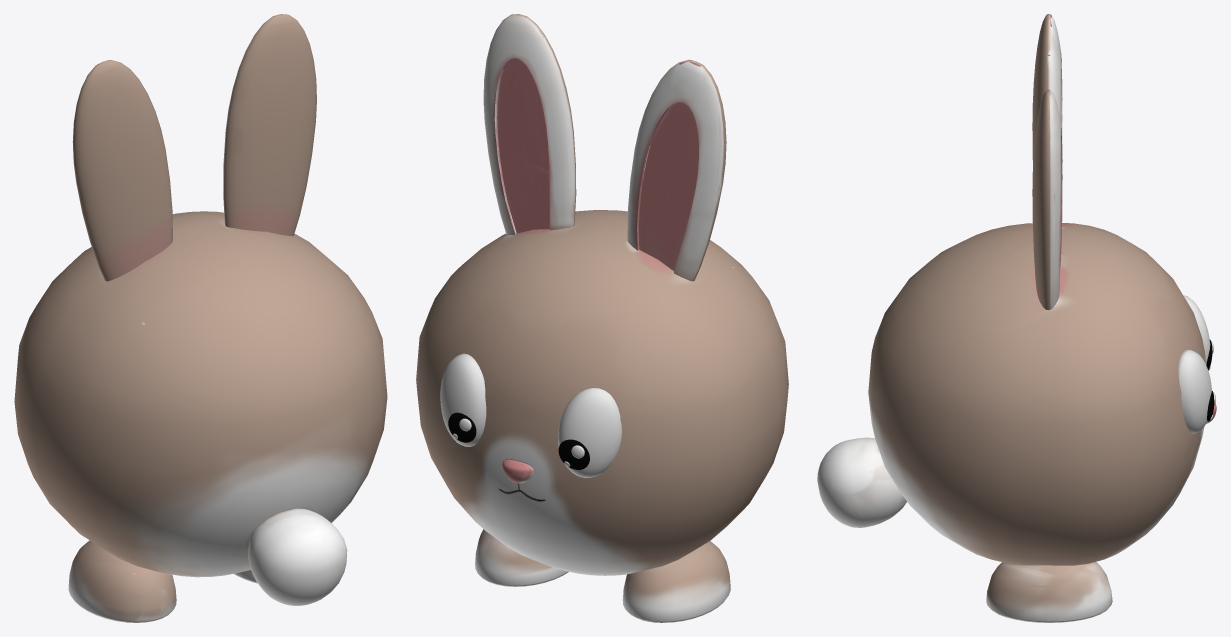
Rendered from newbunny.glb.
3 views of the same model, side by side, from view 1: azimuth 30°, elevation 25°; view 2: azimuth 150°, elevation 25°; view 3: azimuth 270°, elevation 25° (orthographic). The views are drawn at different scales.
Parts seen in each view (by area): view 1: Sphere.001; view 2: Sphere.001; view 3: Sphere.001.
Boxes of the visible parts, x1,y1,x2,y2 form: Sphere.001: [14, 14, 387, 622]; Sphere.001: [416, 14, 788, 622]; Sphere.001: [817, 14, 1216, 622].
Size of the model in its own units: 1.78 by 2.86 by 2.01.
Materials: 7 (1 with a texture image).
